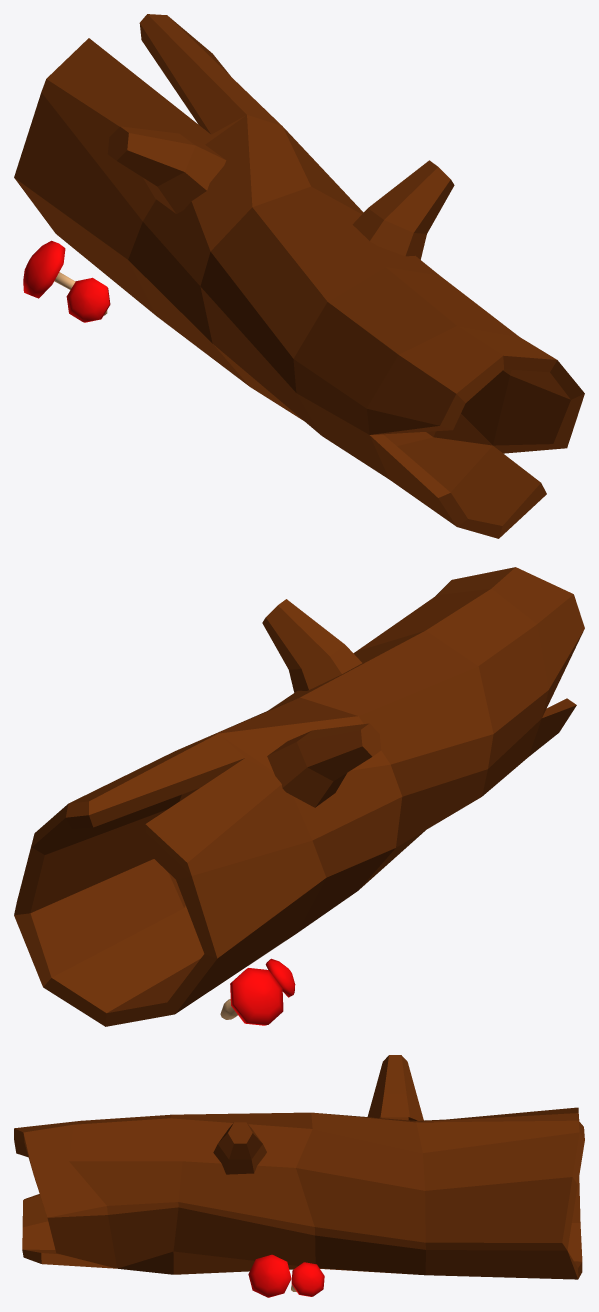
File: Log_04.fbx
3 views of the same model, one above another, from view 1: azimuth 30°, elevation 25°; view 2: azimuth 150°, elevation 25°; view 3: azimuth 270°, elevation 25° (orthographic). The views are drawn at different scales.
Parts seen in each view (by area): view 1: Log_04; view 2: Log_04; view 3: Log_04.
Part boxes in pixels (bbox=[...]): Log_04: bbox=[14, 14, 584, 538]; Log_04: bbox=[14, 567, 584, 1026]; Log_04: bbox=[14, 1055, 584, 1297].
Bounding box in the file's own units: 103 × 98.6 × 290.
